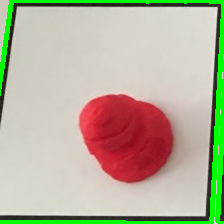Red Bishop: (73, 87, 181, 190)
